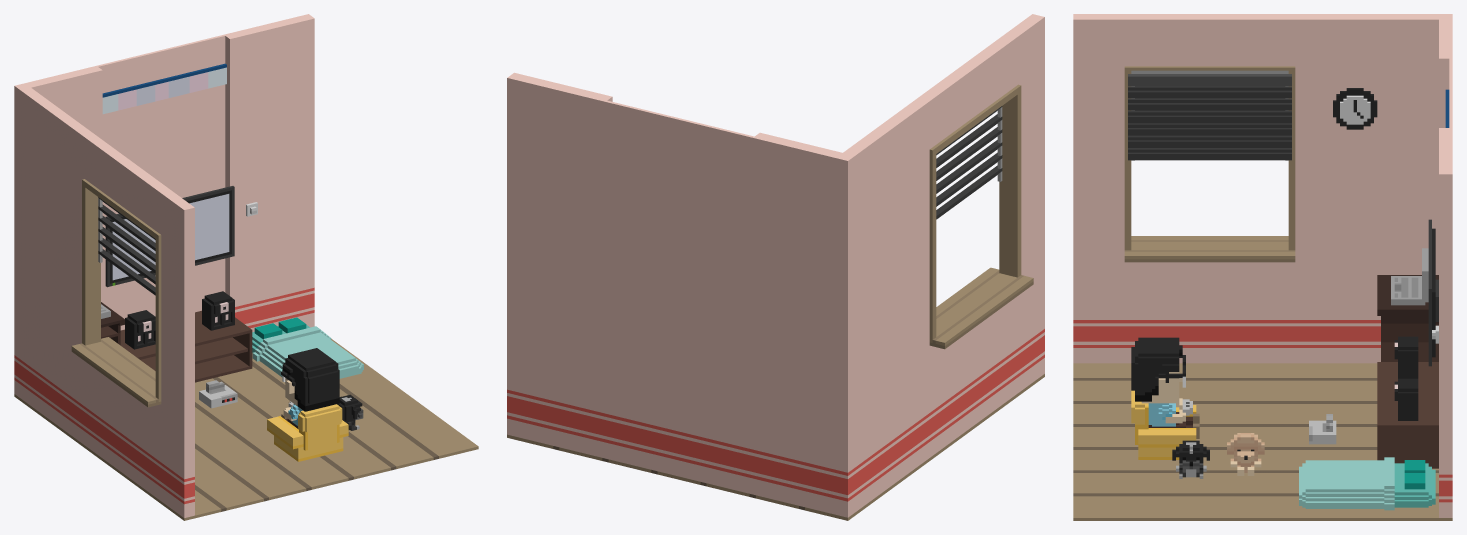
Rendered from room.obj.
3 views of the same model, side by side, from view 1: azimuth 30°, elevation 25°; view 2: azimuth 150°, elevation 25°; view 3: azimuth 270°, elevation 25° (orthographic). The views are drawn at different scales.
Bounding box in the file's own units: 11.6 × 11.2 × 11.1.
